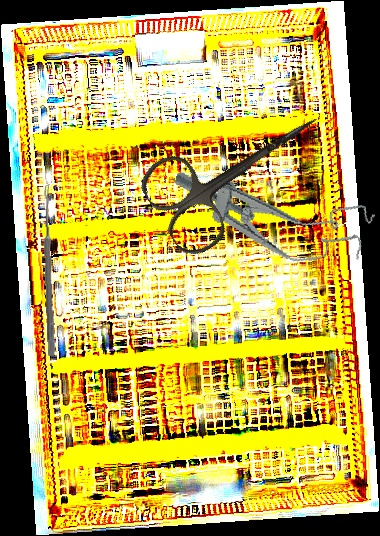Iris Scissors: (133, 77, 345, 263)
Speculum: (162, 156, 378, 279)
Surgical Spoon: (42, 183, 56, 357)
